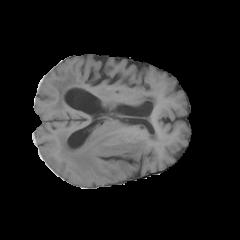glioma: (54, 123, 169, 181)
